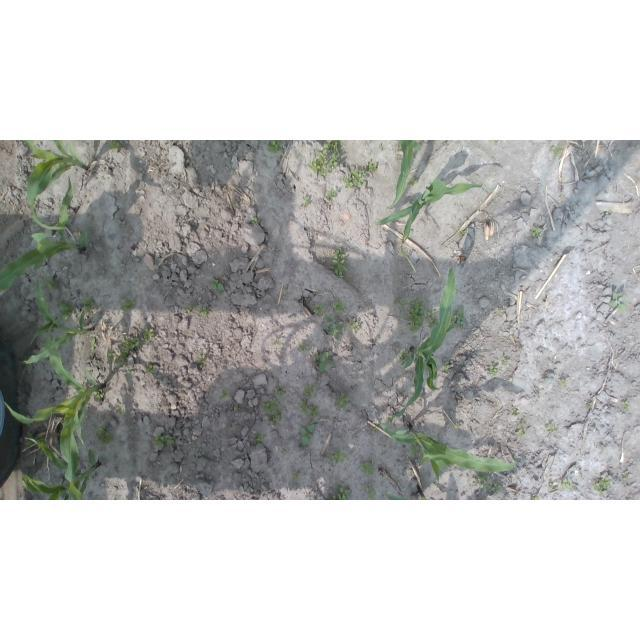Maize: (0, 324, 104, 500), (372, 408, 517, 485), (378, 177, 494, 271), (0, 178, 90, 296), (392, 269, 457, 419), (23, 140, 89, 234), (22, 274, 90, 365), (21, 436, 101, 500), (386, 141, 423, 212), (385, 482, 430, 500)
Weeds: (308, 140, 343, 176), (395, 297, 426, 332), (329, 248, 349, 278), (261, 398, 283, 424), (314, 351, 335, 374), (326, 315, 345, 340), (299, 418, 315, 446), (340, 171, 364, 189), (57, 299, 76, 321), (324, 449, 349, 465), (95, 425, 115, 445), (450, 307, 466, 330), (607, 293, 627, 311), (153, 432, 175, 448), (26, 433, 49, 448), (593, 477, 611, 496), (301, 399, 320, 417), (330, 484, 350, 500), (82, 296, 98, 316), (335, 393, 352, 411), (360, 459, 377, 476), (474, 472, 490, 490), (425, 307, 439, 327), (43, 275, 58, 293), (105, 140, 124, 154), (363, 482, 377, 500), (121, 337, 140, 350), (114, 352, 128, 369), (557, 478, 575, 491), (120, 298, 136, 312), (266, 140, 282, 154), (549, 143, 563, 159), (274, 384, 287, 401), (398, 348, 411, 365), (545, 422, 559, 437), (515, 424, 530, 437), (348, 319, 361, 334), (367, 160, 380, 173), (408, 442, 420, 455), (304, 386, 316, 399), (212, 278, 224, 291), (333, 301, 346, 313), (486, 363, 498, 376), (144, 328, 155, 342), (312, 304, 324, 316), (532, 226, 544, 238), (325, 189, 338, 200), (92, 389, 104, 400), (182, 303, 194, 313), (492, 482, 502, 494), (296, 342, 310, 350), (292, 472, 302, 483), (220, 389, 231, 399), (252, 435, 264, 444), (145, 364, 155, 374), (386, 416, 395, 427), (91, 337, 98, 351), (200, 307, 209, 317), (115, 405, 125, 414), (105, 351, 115, 360), (510, 408, 521, 416), (302, 196, 310, 207), (407, 178, 418, 186), (443, 361, 451, 372), (622, 401, 631, 410), (559, 378, 567, 388), (197, 355, 205, 364), (250, 216, 259, 224), (502, 357, 511, 365), (531, 493, 541, 500), (281, 447, 291, 453), (454, 422, 462, 429), (372, 427, 379, 434), (598, 444, 606, 450), (621, 475, 629, 481), (549, 482, 554, 491), (273, 340, 282, 345), (458, 230, 467, 235), (588, 403, 593, 410), (497, 308, 504, 313), (606, 210, 613, 215), (380, 143, 384, 151), (234, 408, 240, 413), (226, 425, 232, 430), (127, 370, 134, 374), (285, 292, 290, 296), (493, 141, 499, 144)
